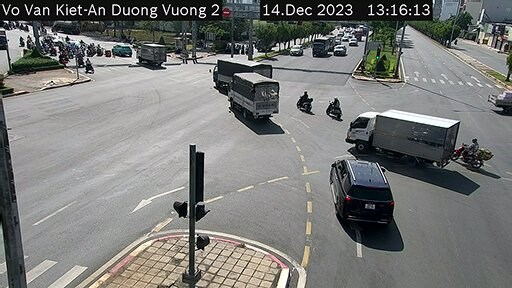car: (331, 154, 391, 225), (114, 41, 133, 62), (287, 44, 303, 60), (334, 43, 347, 57)
motorbike: (460, 137, 488, 168), (325, 95, 344, 123), (299, 90, 311, 113)
truck: (349, 107, 457, 163), (222, 72, 280, 124), (208, 56, 282, 90), (310, 34, 329, 57)
